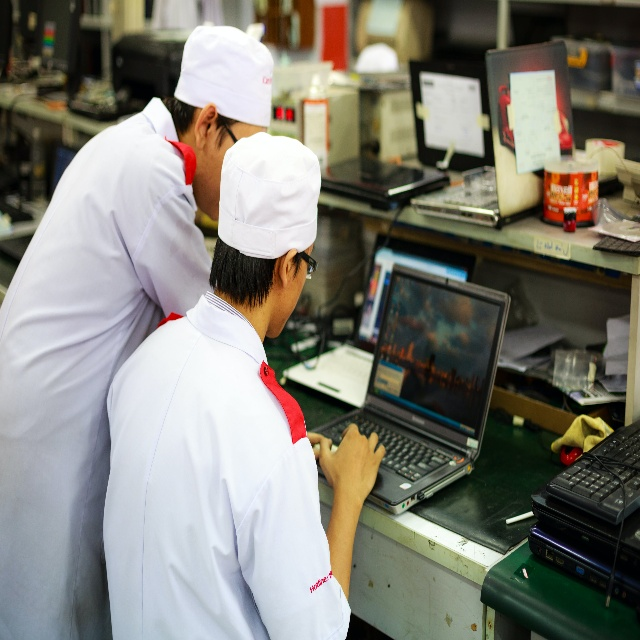Gafas: (298, 250, 319, 280), (219, 114, 238, 143)
Sin_guantes: (318, 423, 386, 505), (306, 430, 324, 459)
